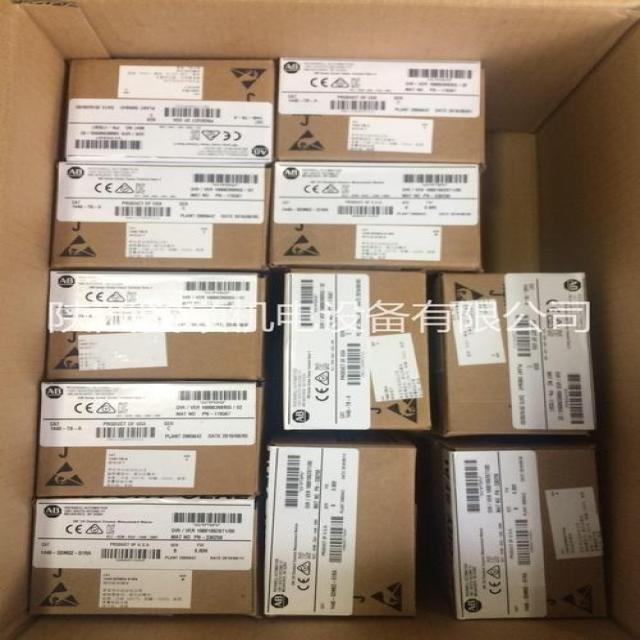box: (428, 434, 612, 620), (262, 431, 417, 616), (26, 496, 261, 618), (428, 272, 598, 436), (33, 381, 264, 498), (51, 160, 275, 272), (45, 270, 268, 382), (284, 269, 433, 432), (269, 161, 481, 273), (274, 57, 488, 165), (65, 58, 275, 164)
